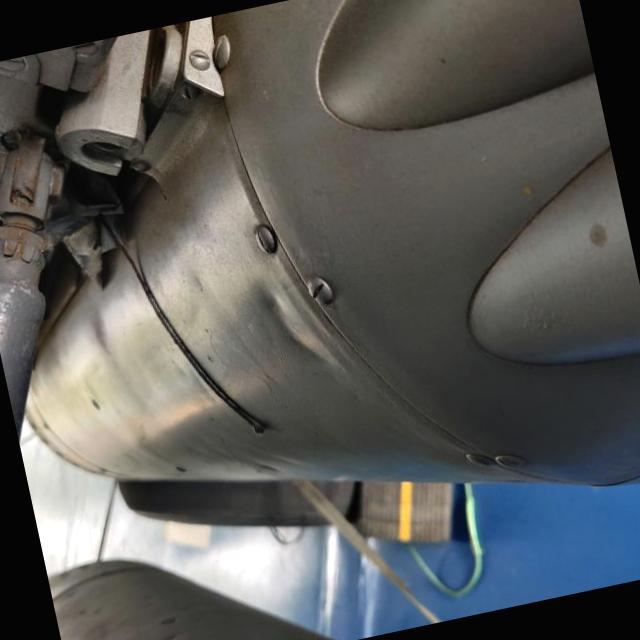dent: (248, 240, 378, 358)
